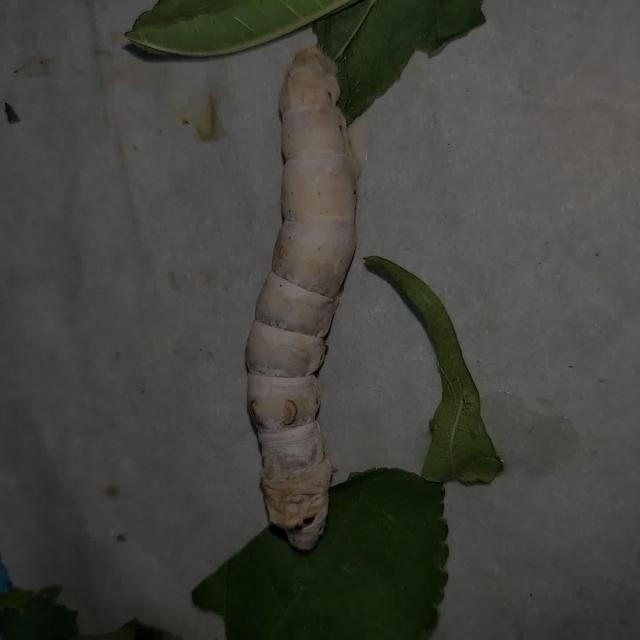Grasserie: (224, 30, 374, 548)
